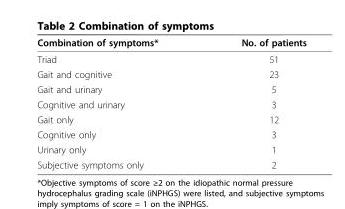table: (36, 36, 305, 169)
table column: (36, 36, 199, 169), (199, 36, 305, 169)
table column header: (36, 36, 305, 50)
table row: (36, 50, 305, 66), (36, 66, 305, 81), (36, 81, 305, 96), (36, 96, 305, 111), (36, 111, 305, 126), (36, 126, 305, 141), (36, 141, 305, 156), (36, 36, 305, 50), (36, 156, 305, 169)
